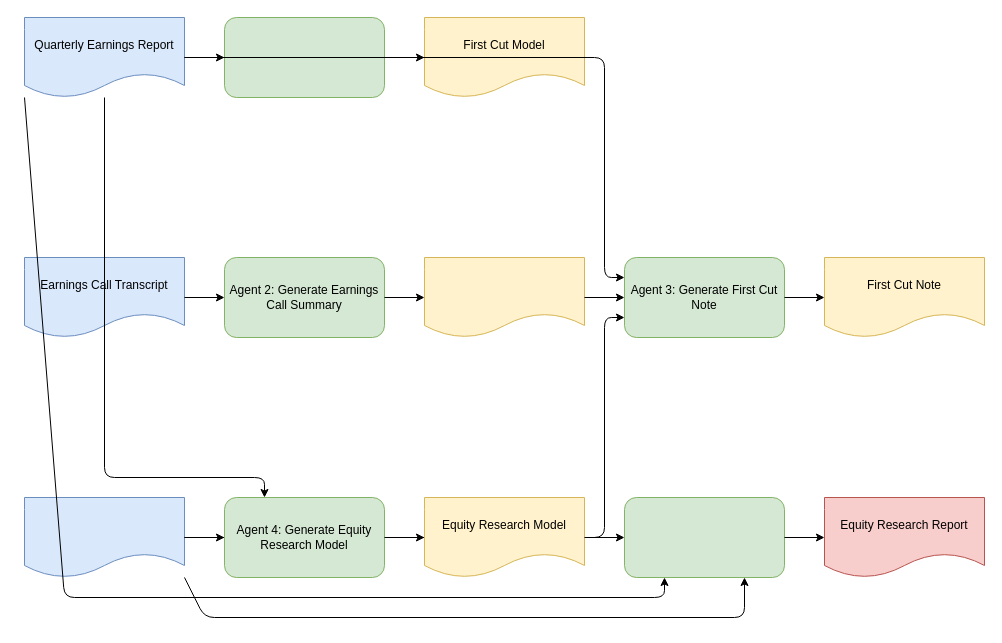
Some shapes in this 1002 by 643 pixel diagram are drawn without their labels. The centre of each missing label's shape, as x and y in pixels:
"Agent 1: Generate First Cut Model" goes at [304,57].
"Agent 5: Generate Equity Research Report" goes at [704,537].
"Earnings Call Summary" goes at [504,297].
"Press Release Documents" goes at [104,537].
